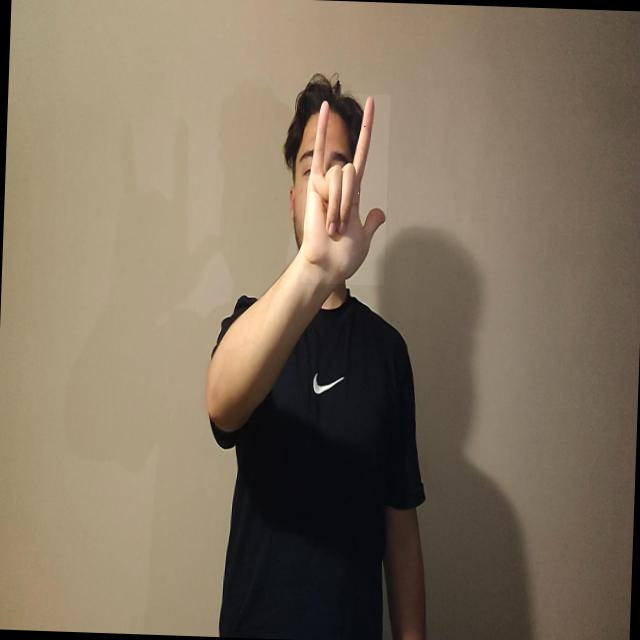iloveyou: (299, 92, 390, 286)
